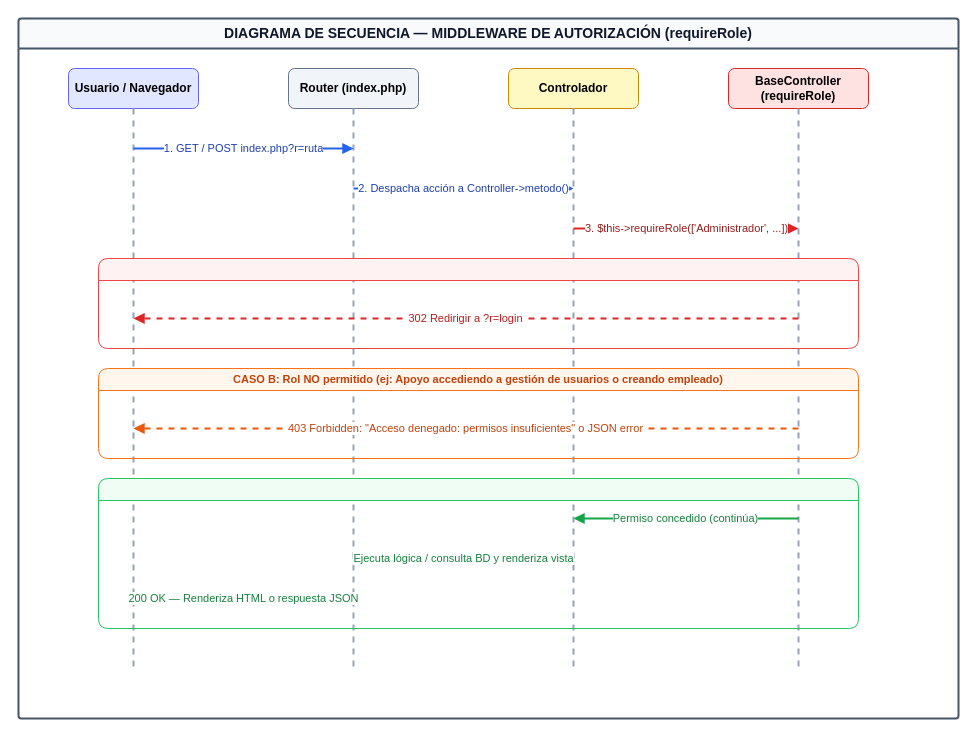
Some shapes in this 976 by 736 pixel diagram are drawn without their labels. The centre of each missing label's shape, as x and y in pixels:
"CASO A: Usuario NO autenticado ($_SESSION vacía)" goes at (x=478, y=303).
"CASO C: Rol Autorizado (ej: Admin o Rol en lista permitida)" goes at (x=478, y=553).
